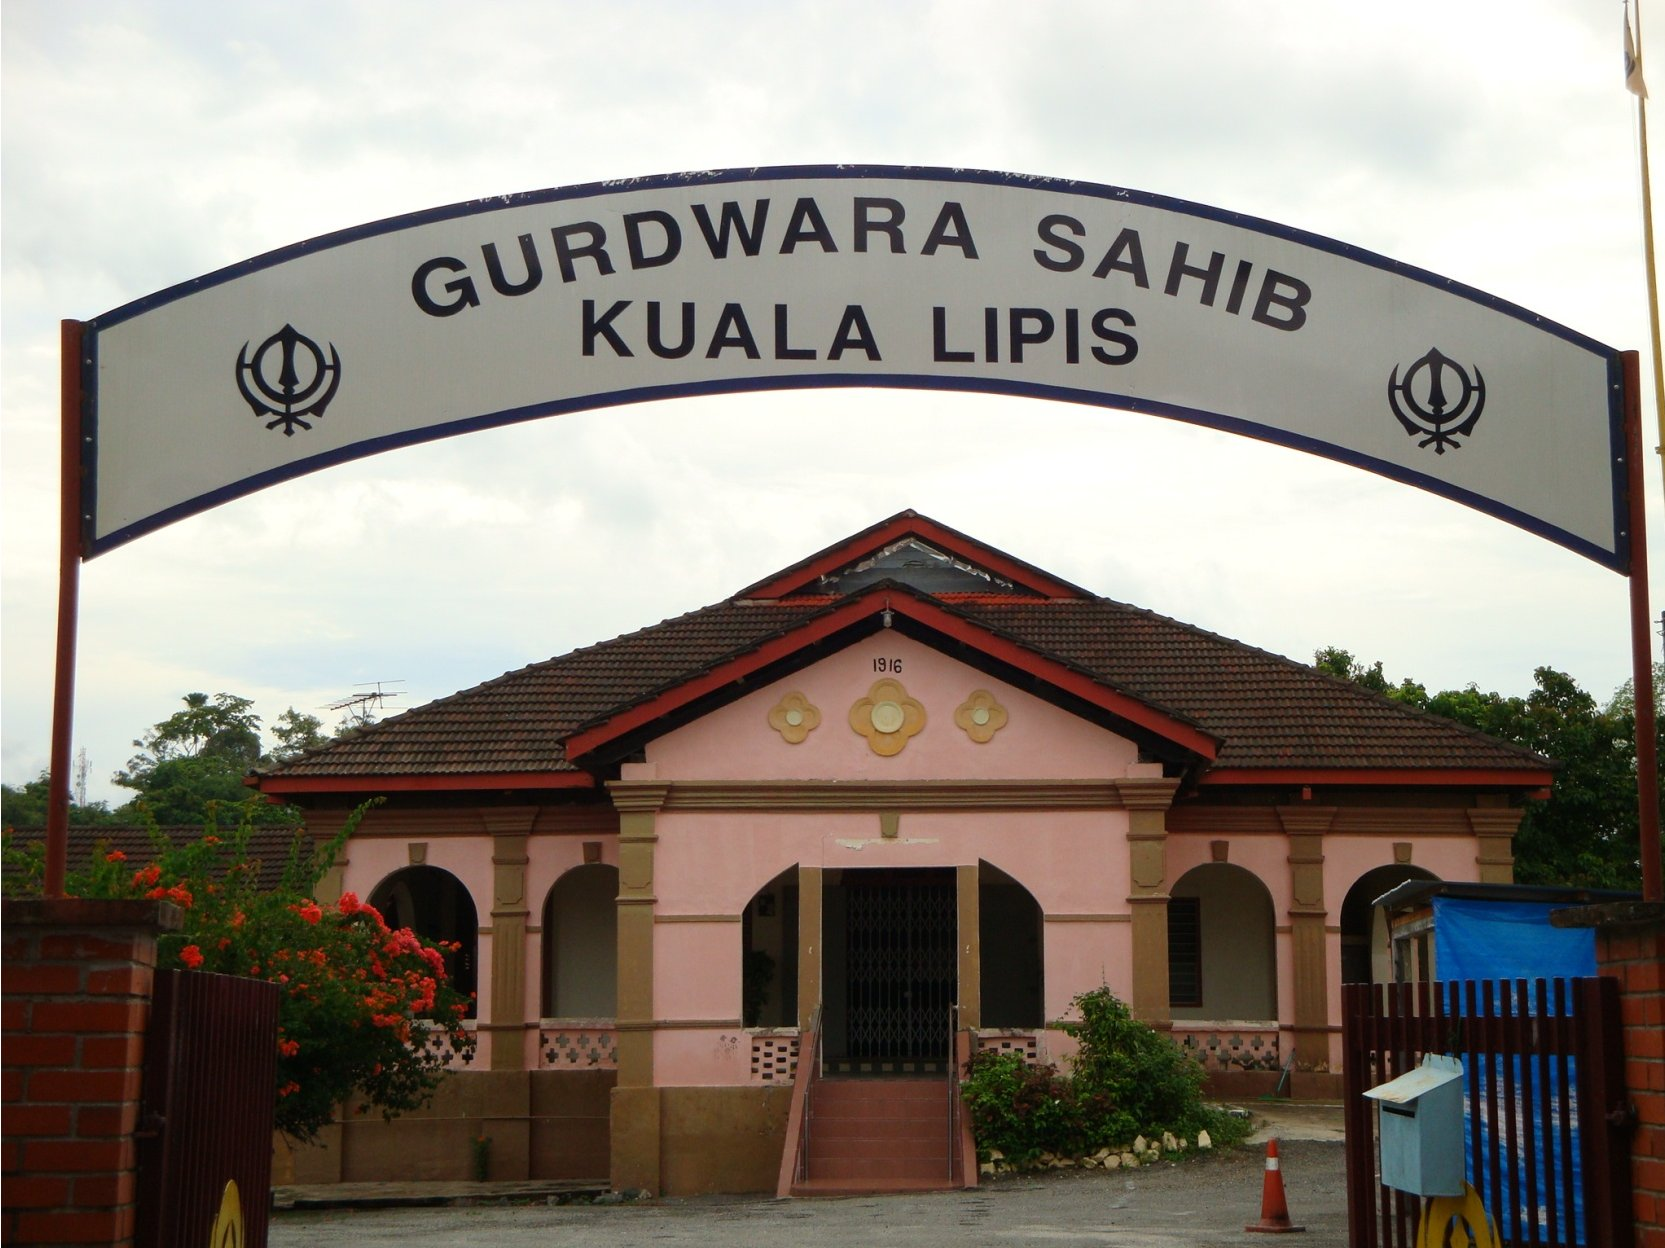Gurdwara: (45, 122, 1630, 1163)
